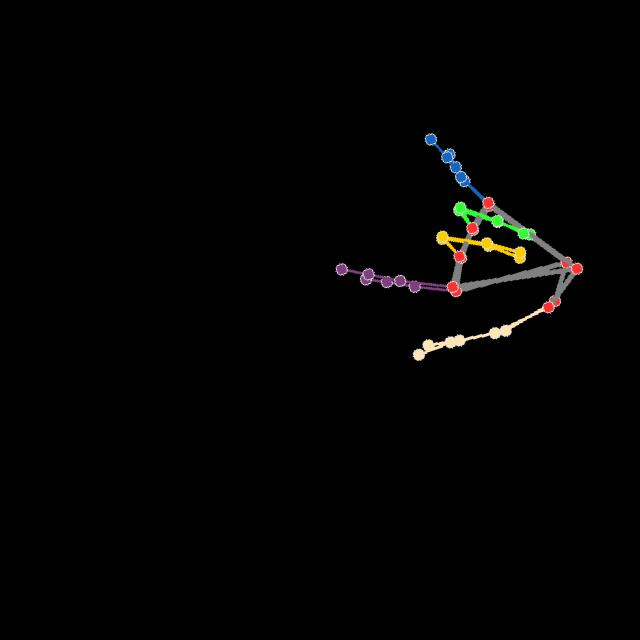spiderman: (331, 128, 587, 362)
